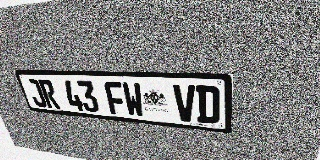3: (76, 81, 100, 113)
4: (61, 80, 85, 111)
D: (196, 85, 220, 125)
F: (103, 81, 127, 116)
J: (25, 79, 48, 108)
R: (38, 79, 61, 109)
V: (173, 84, 196, 122)
W: (121, 82, 145, 117)
